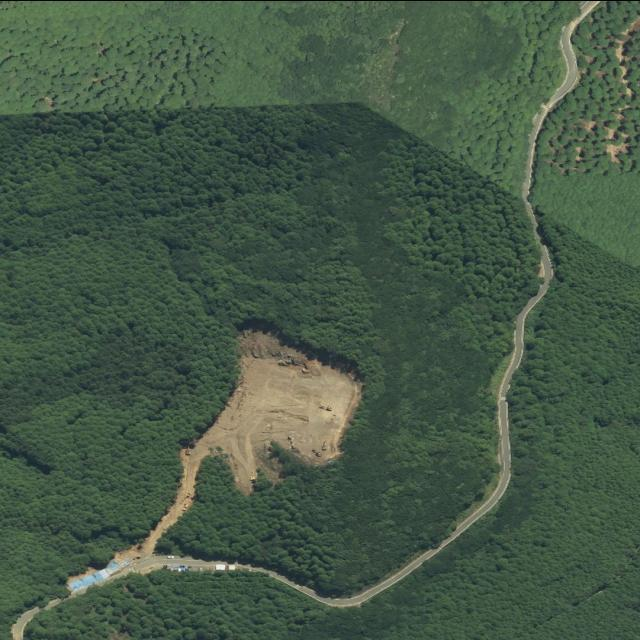landslide: (114, 329, 360, 561)
